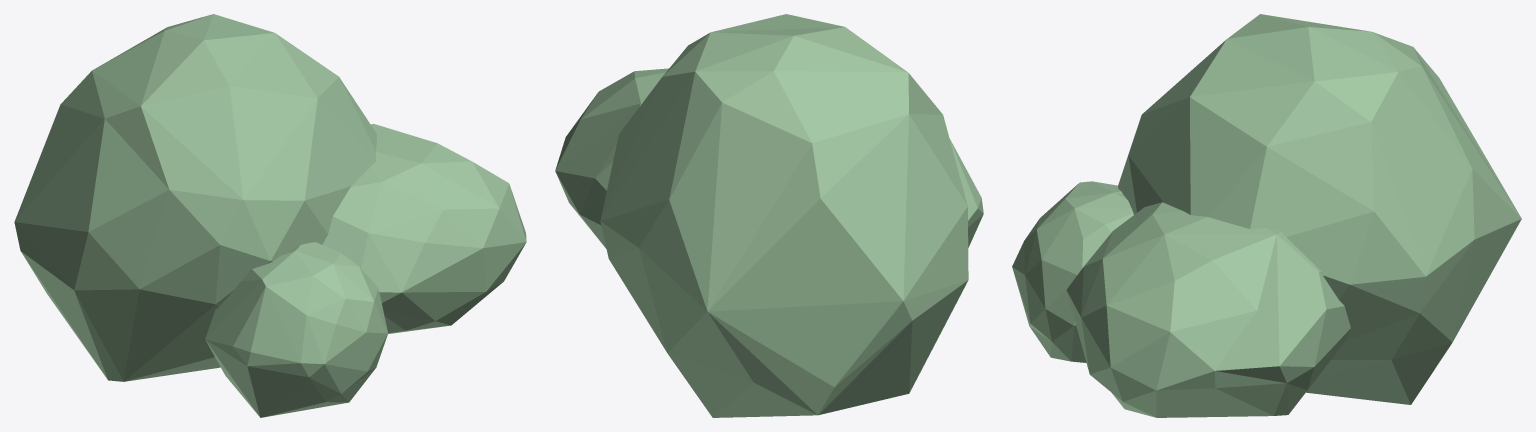
The model's file is Mystic_Bush_M1.fbx.
3 renders of one model, left to right at view 1: azimuth 30°, elevation 25°; view 2: azimuth 150°, elevation 25°; view 3: azimuth 270°, elevation 25°, orthographic. The views are drawn at different scales.
Visible parts, largest first — view 1: Mystic_Bush4; view 2: Mystic_Bush4; view 3: Mystic_Bush4.
Part boxes in pixels (x1,y1,x2,y2): Mystic_Bush4: (14,14,526,417); Mystic_Bush4: (555,14,983,417); Mystic_Bush4: (1012,14,1521,417).
Bounding box in the file's own units: 196 × 153 × 195.
